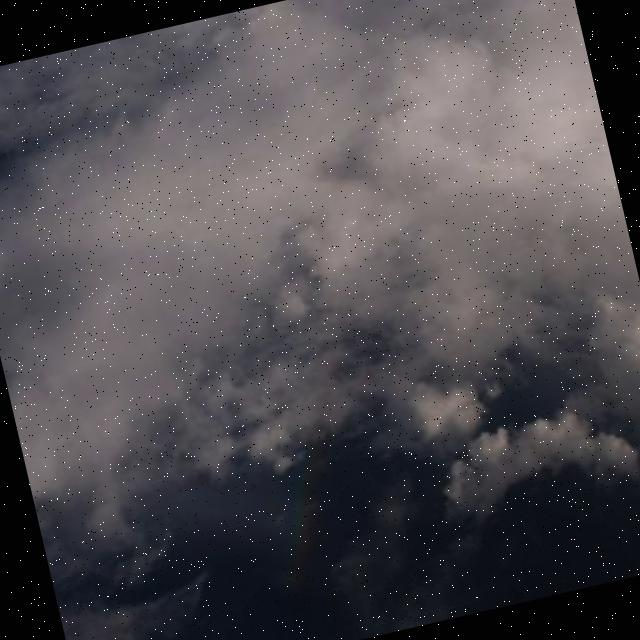Cu: (1, 1, 640, 631)
